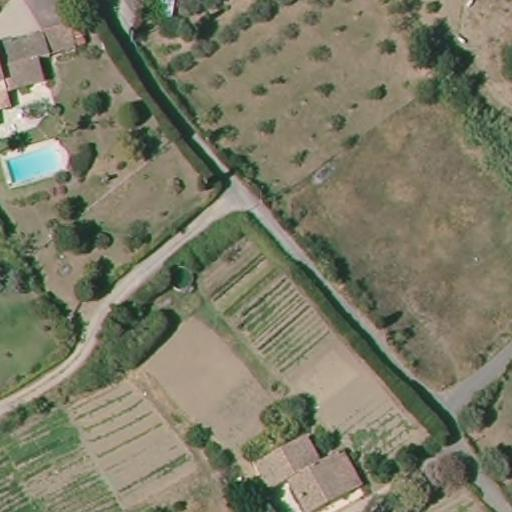pool: (0, 141, 68, 189)
